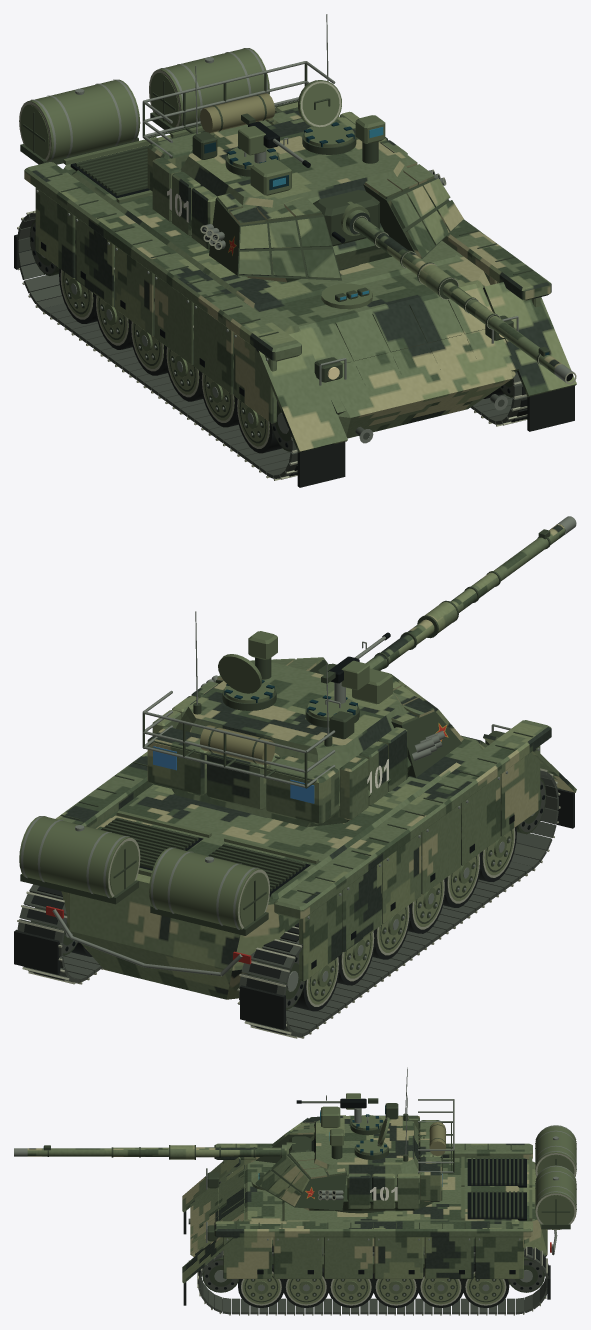
Rendered from ztz99a.glb.
3 views of the same model, one above another, from view 1: azimuth 30°, elevation 25°; view 2: azimuth 150°, elevation 25°; view 3: azimuth 270°, elevation 25° (orthographic). The views are drawn at different scales.
Parts seen in each view (by area): view 1: Base, Turret, Gun, WheelL1, WheelL5, WheelL3, WheelL6, WheelL2, WheelL4; view 2: Base, Turret, Gun, WheelL6, WheelL4, WheelL2, WheelL1, WheelL5, WheelL3, IdlerLRear; view 3: Base, Turret, Gun, WheelR6, WheelR1, WheelR5, WheelR2, WheelR4, WheelR3, IdlerRFront, IdlerRRear.
Boxes of the visible parts, bbox=[...] form: Base: bbox=[14, 48, 576, 487]; Turret: bbox=[142, 14, 463, 282]; Gun: bbox=[346, 210, 576, 384]; WheelL1: bbox=[235, 397, 282, 453]; WheelL5: bbox=[94, 295, 132, 349]; WheelL3: bbox=[165, 346, 203, 401]; WheelL6: bbox=[59, 268, 97, 323]; WheelL2: bbox=[200, 372, 238, 427]; WheelL4: bbox=[129, 320, 167, 375]; Base: bbox=[14, 720, 576, 1029]; Turret: bbox=[142, 611, 463, 827]; Gun: bbox=[365, 516, 576, 670]; WheelL6: bbox=[293, 956, 340, 1011]; WheelL4: bbox=[372, 904, 410, 959]; WheelL2: bbox=[443, 853, 481, 907]; WheelL1: bbox=[478, 826, 516, 881]; WheelL5: bbox=[337, 930, 375, 985]; WheelL3: bbox=[408, 879, 446, 933]; IdlerLRear: bbox=[253, 954, 304, 1009]; Base: bbox=[182, 1125, 576, 1305]; Turret: bbox=[255, 1067, 454, 1213]; Gun: bbox=[14, 1144, 286, 1159]; WheelR6: bbox=[462, 1265, 509, 1307]; WheelR1: bbox=[238, 1265, 284, 1307]; WheelR5: bbox=[418, 1267, 464, 1307]; WheelR2: bbox=[283, 1267, 329, 1307]; WheelR4: bbox=[372, 1273, 419, 1307]; WheelR3: bbox=[327, 1273, 374, 1307]; IdlerRFront: bbox=[202, 1255, 239, 1292]; IdlerRRear: bbox=[508, 1255, 544, 1292].
Bounding box in the file's own units: 44.8 × 47.95 × 123.
1 material, 1 textured.
